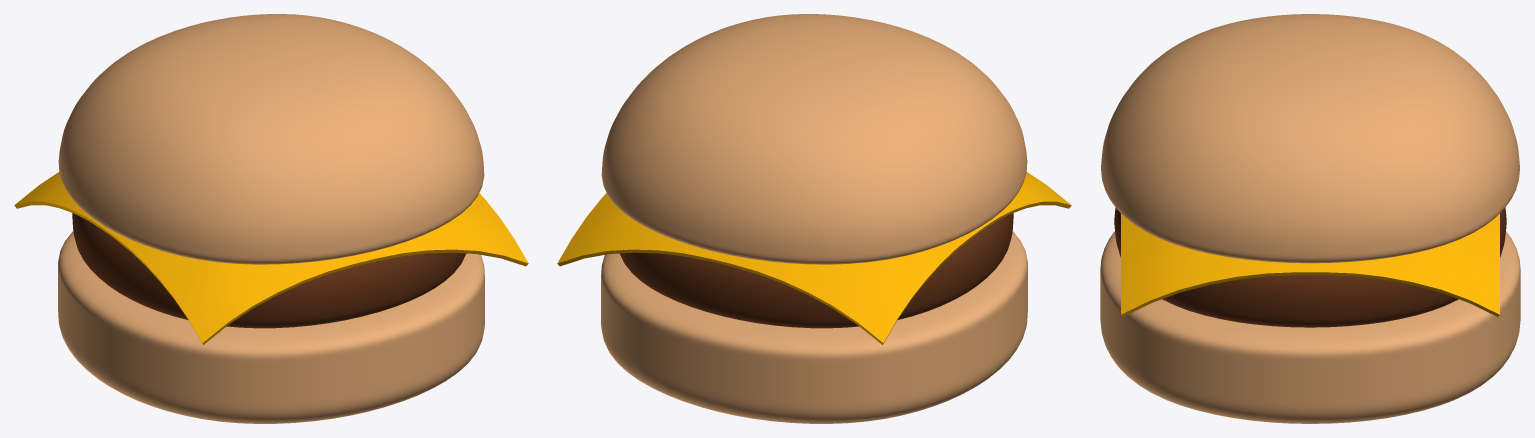
Rendered from hamburger.glb.
The picture shows the model from 3 angles, left to right: view 1: azimuth 30°, elevation 25°; view 2: azimuth 150°, elevation 25°; view 3: azimuth 270°, elevation 25°; orthographic projection.
Visible parts, largest first — view 1: Cube.002, Cube, Plane, Cube.001; view 2: Cube.002, Cube, Plane, Cube.001; view 3: Cube.002, Cube, Plane, Cube.001.
Part boxes in pixels (x1=…): Cube.002: x1=58, y1=14, x2=484, y2=264; Cube: x1=58, y1=231, x2=484, y2=423; Plane: x1=14, y1=172, x2=528, y2=344; Cube.001: x1=72, y1=213, x2=466, y2=328; Cube.002: x1=601, y1=14, x2=1027, y2=264; Cube: x1=601, y1=231, x2=1027, y2=423; Plane: x1=557, y1=172, x2=1071, y2=344; Cube.001: x1=619, y1=213, x2=1013, y2=328; Cube.002: x1=1101, y1=14, x2=1519, y2=263; Cube: x1=1100, y1=231, x2=1520, y2=423; Plane: x1=1121, y1=213, x2=1499, y2=316; Cube.001: x1=1114, y1=207, x2=1506, y2=327.
Size of the model in its own units: 9.21 by 7.5 by 9.21.
